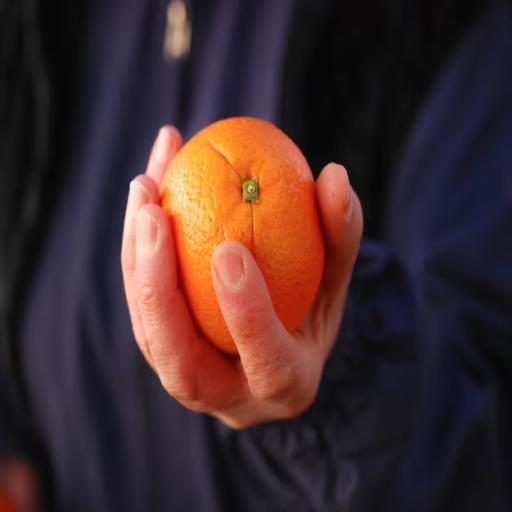orange: (162, 117, 324, 353)
